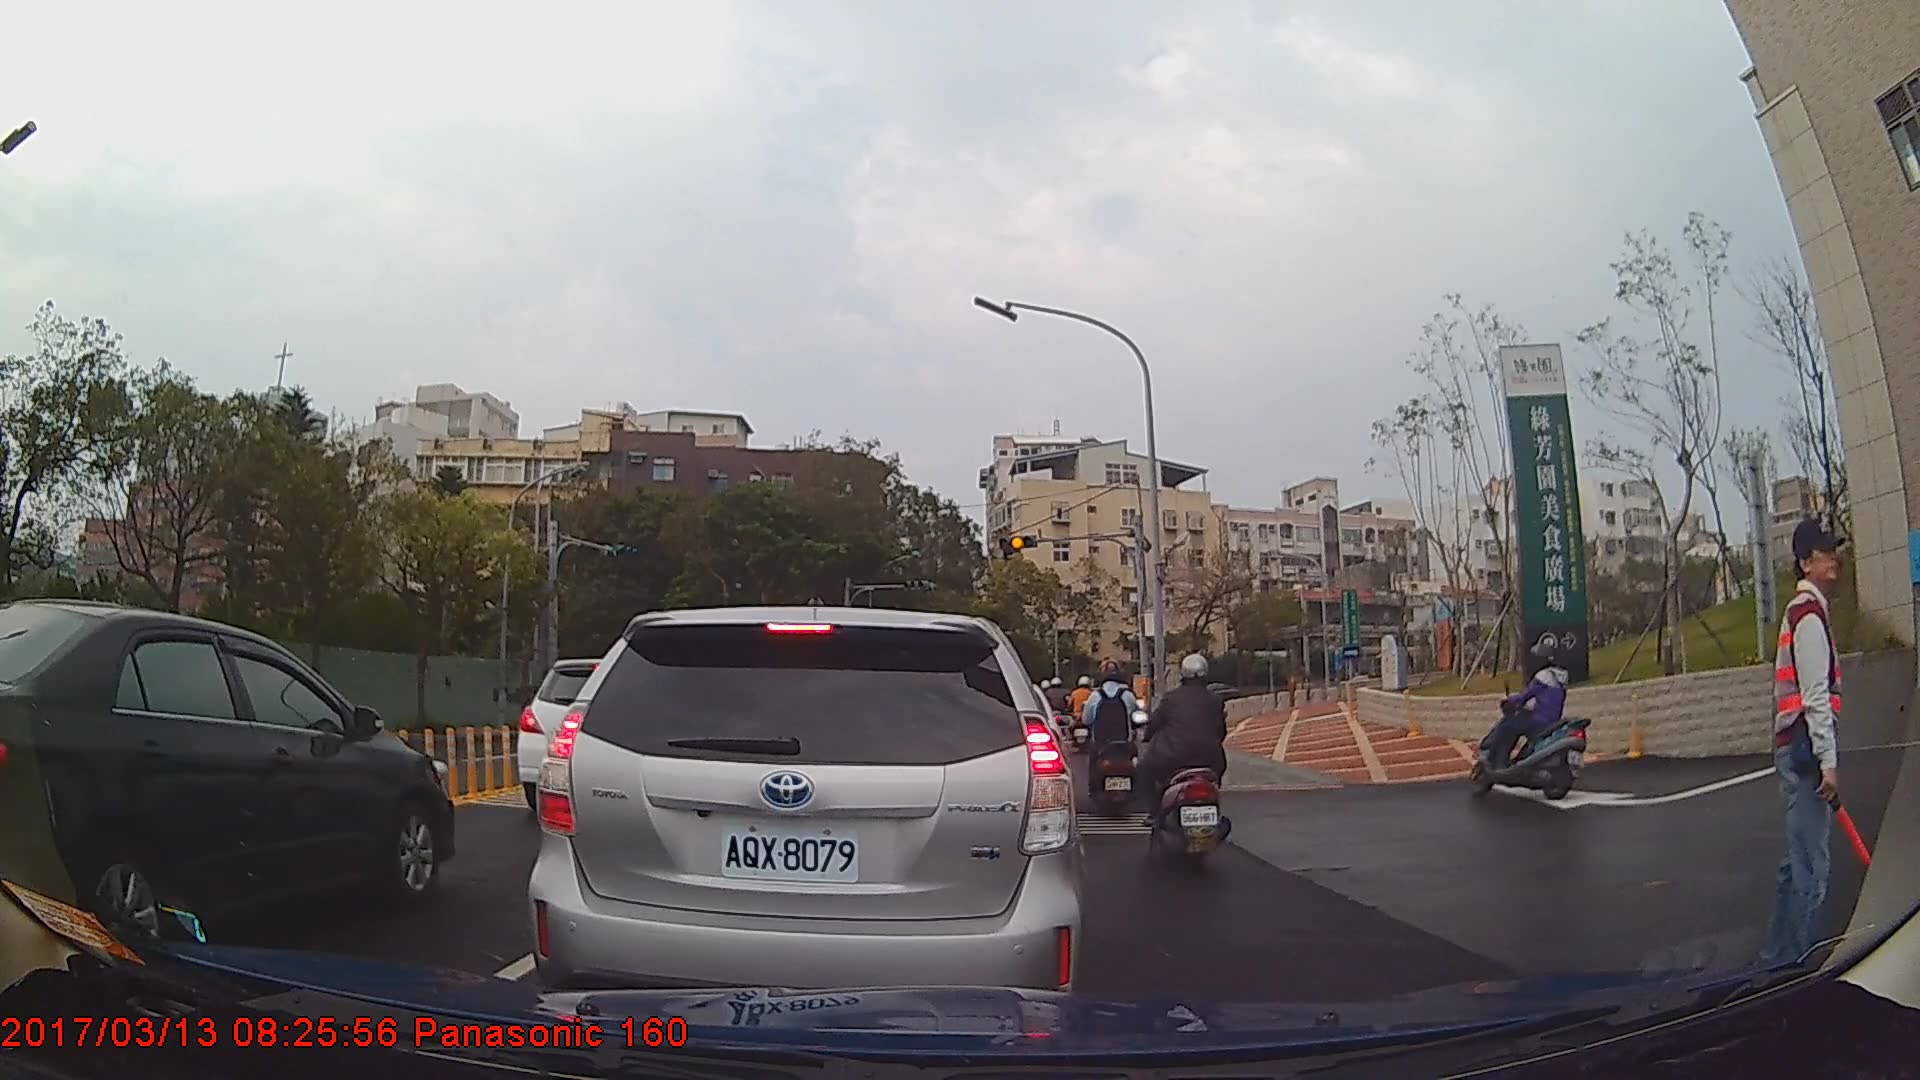pedestrian: (1762, 518, 1869, 973)
rider: (1137, 652, 1229, 872), (1468, 648, 1591, 804), (1082, 654, 1145, 821), (1068, 674, 1101, 753)
vehicle: (528, 602, 1081, 1037), (0, 598, 456, 955)
